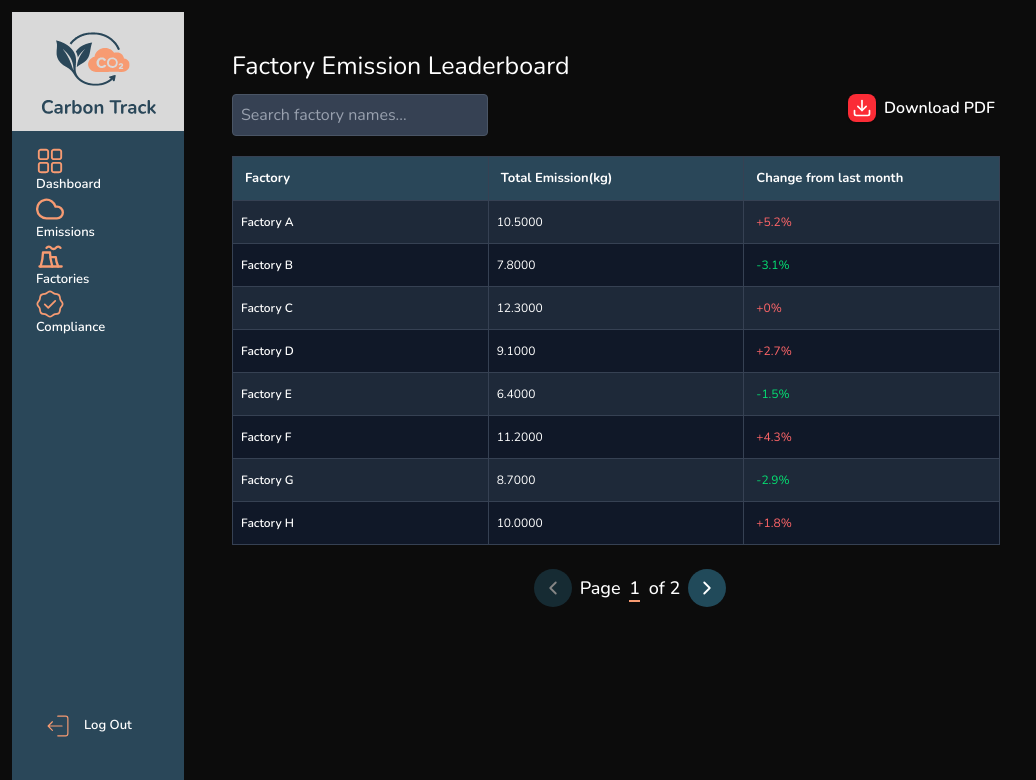
Test case: FactoryEmissionLeaderboard › shows no results message when no factories match search
Type "Nonexistent Factory" into the field with placeholder "Search factory names..." at point(360, 114), box x1=232 y1=94 x2=488 y2=136
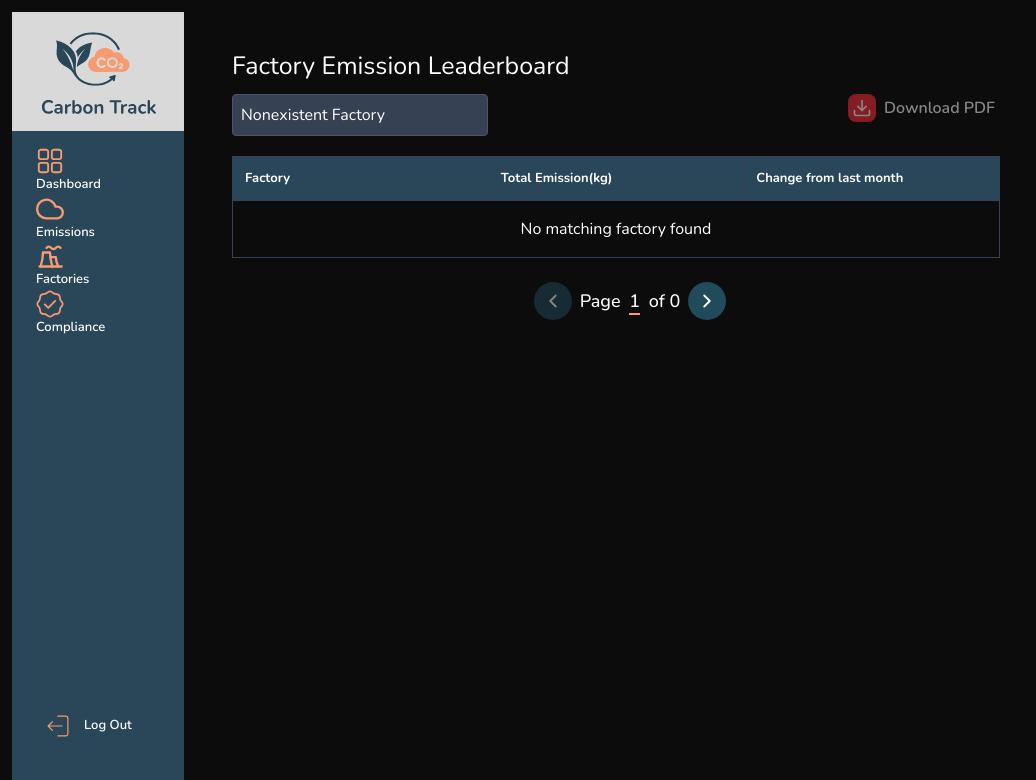
Now the text "No matching factory found" is shown, box x1=232 y1=200 x2=1000 y2=258
